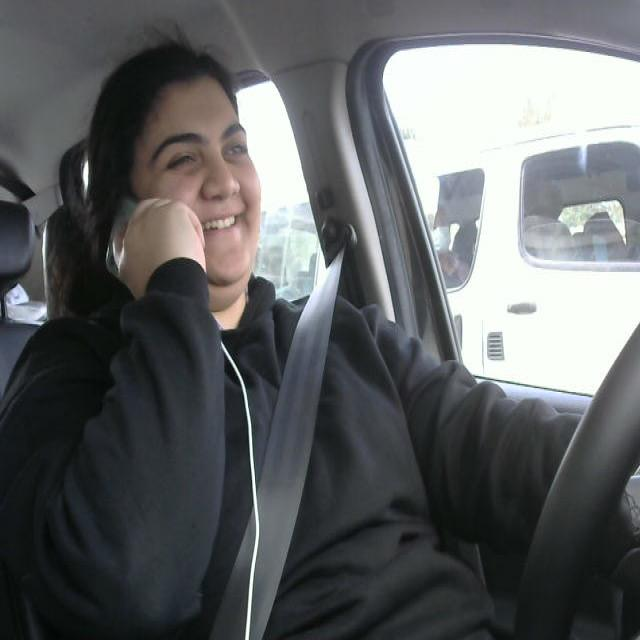mobile use: (98, 190, 195, 298)
